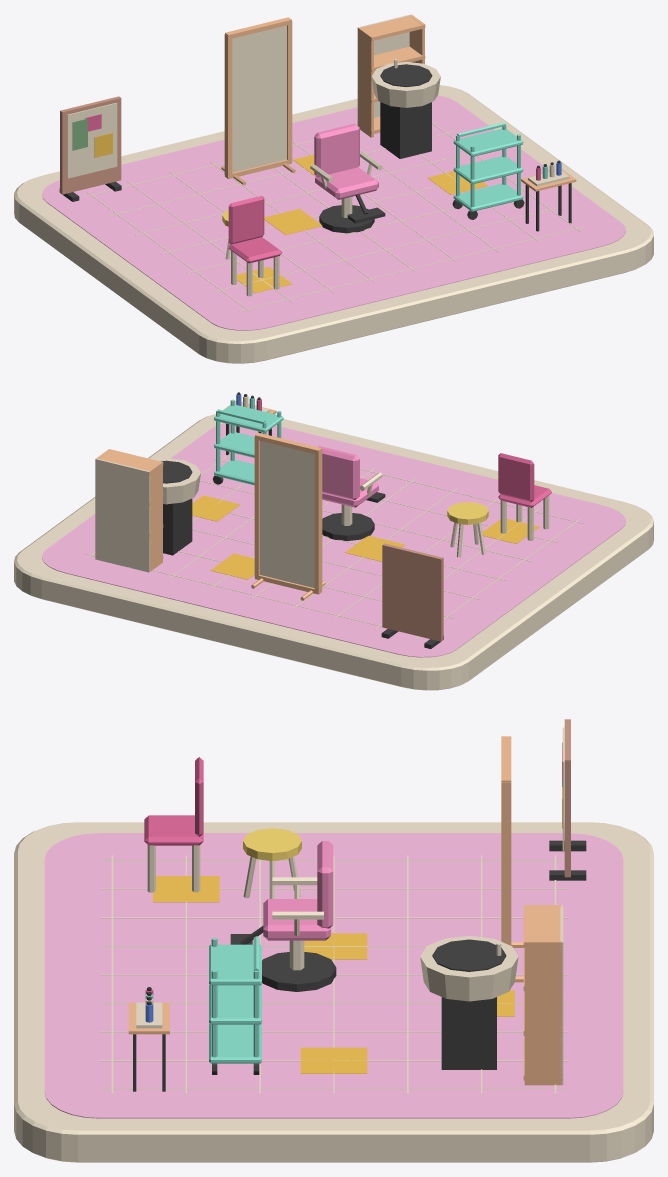
3 views of the same model, one above another, from view 1: azimuth 30°, elevation 25°; view 2: azimuth 150°, elevation 25°; view 3: azimuth 270°, elevation 25° (orthographic). The views are drawn at different scales.
Visible parts, largest first — view 1: COM-02 Floor Surface, COM-01 Rounded Base Direct, Mirror face, Pedestal, Canvas, Panel, Back, Bowl, Side, Backrest, Seat, Frame (+14 smaller); view 2: COM-02 Floor Surface, COM-01 Rounded Base Direct, Mirror face, Back.001, Panel, Back, Backrest, Pedestal, Frame, Side, Base, Tray.002 (+14 smaller); view 3: COM-02 Floor Surface, COM-01 Rounded Base Direct, Side.001, Pedestal, Bowl, Base, Seat, Tray.002, Inset, Geometric color tile.003, Tray.001, Tray (+13 smaller).
Boxes of the visible parts, left/top/right/bottom form: COM-02 Floor Surface: left=42, top=95, right=625, bottom=330; COM-01 Rounded Base Direct: left=14, top=85, right=653, bottom=363; Mirror face: left=232, top=25, right=286, bottom=172; Pedestal: left=380, top=102, right=431, bottom=158; Canvas: left=67, top=103, right=117, bottom=178; Panel: left=60, top=96, right=121, bottom=194; Back: left=314, top=123, right=359, bottom=176; Bowl: left=371, top=61, right=440, bottom=107; Side: left=358, top=27, right=373, bottom=137; Backrest: left=228, top=195, right=264, bottom=244; Seat: left=315, top=167, right=378, bottom=199; Frame: left=224, top=34, right=232, bottom=177; COM-02 Floor Surface: left=42, top=423, right=625, bottom=657; COM-01 Rounded Base Direct: left=14, top=414, right=653, bottom=690; Mirror face: left=260, top=441, right=314, bottom=587; Back.001: left=95, top=458, right=150, bottom=572; Panel: left=382, top=543, right=443, bottom=641; Back: left=318, top=446, right=359, bottom=499; Backrest: left=498, top=453, right=534, bottom=501; Pedestal: left=163, top=498, right=192, bottom=555; Frame: left=314, top=450, right=322, bottom=593; Side: left=148, top=461, right=162, bottom=571; Base: left=322, top=513, right=374, bottom=540; Tray.002: left=214, top=404, right=283, bottom=432; COM-02 Floor Surface: left=44, top=833, right=623, bottom=1118; COM-01 Rounded Base Direct: left=14, top=822, right=653, bottom=1162; Side.001: left=524, top=940, right=561, bottom=1085; Pedestal: left=441, top=997, right=496, bottom=1069; Bowl: left=420, top=936, right=518, bottom=1001; Base: left=262, top=952, right=336, bottom=991; Seat: left=263, top=899, right=330, bottom=940; Tray.002: left=209, top=944, right=261, bottom=985; Inset: left=432, top=939, right=506, bottom=971; Geometric color tile.003: left=300, top=1047, right=367, bottom=1073; Tray.001: left=209, top=984, right=261, bottom=1024; Tray: left=209, top=1023, right=261, bottom=1063.
Size of the model in its own units: 6 by 2.15 by 5.2.
Materials: 1 (1 with a texture image).
